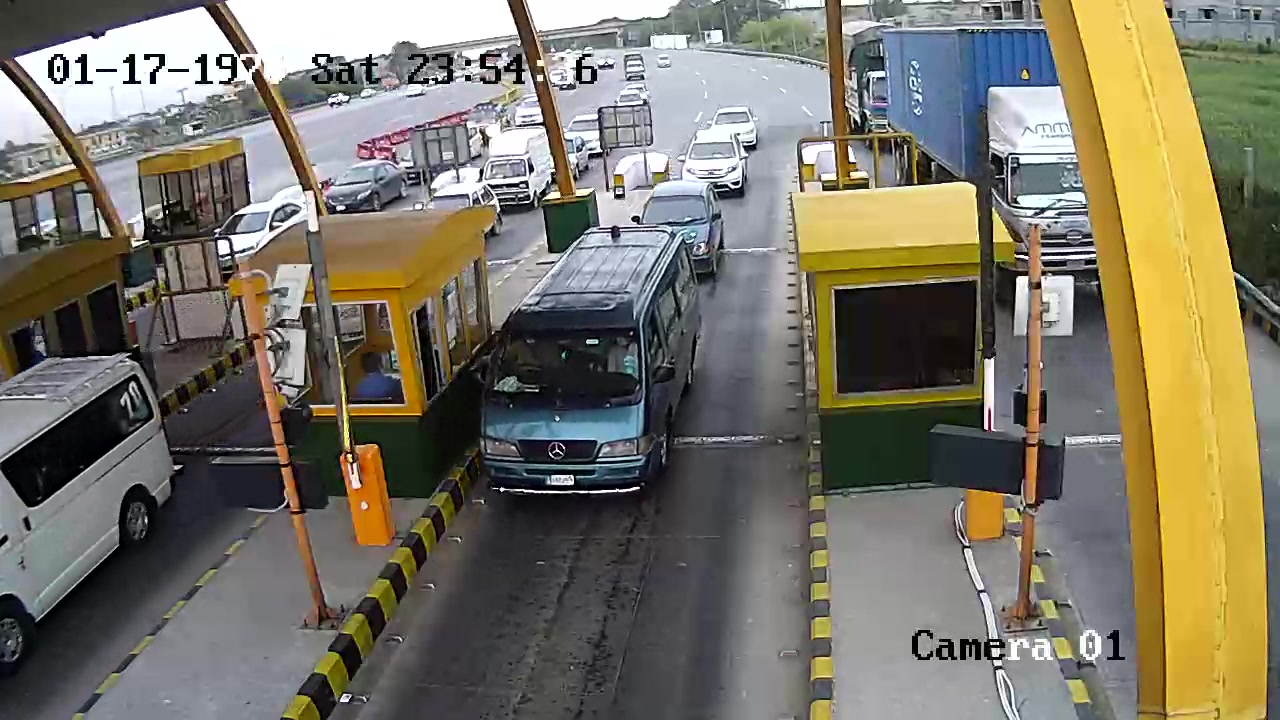F3: (472, 219, 696, 507)
